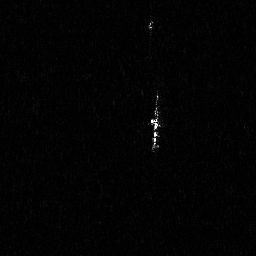ship: (151, 105, 160, 151)
